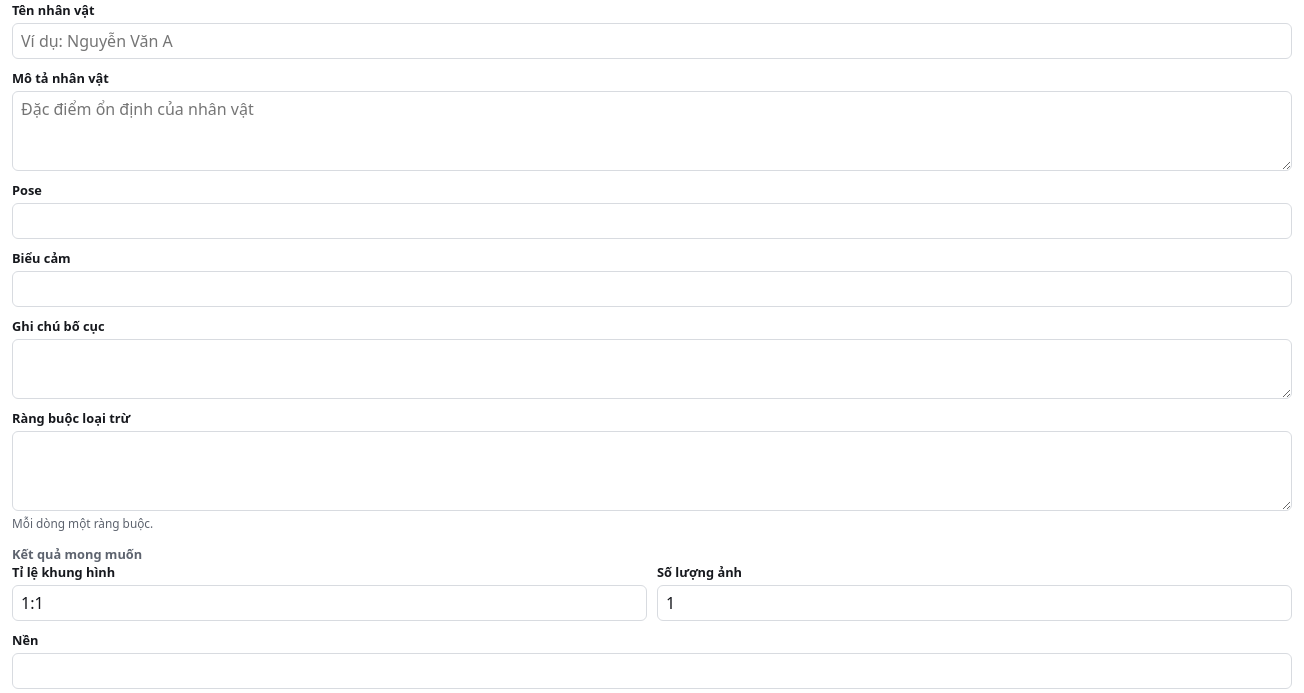
Test: the preview follows the form › carries the name, the description and the composition note
The image size is (1304, 693).
Type "Trần Văn B" into the field labelled "Tên nhân vật". click: (652, 41)
box: [12,23,1292,59]
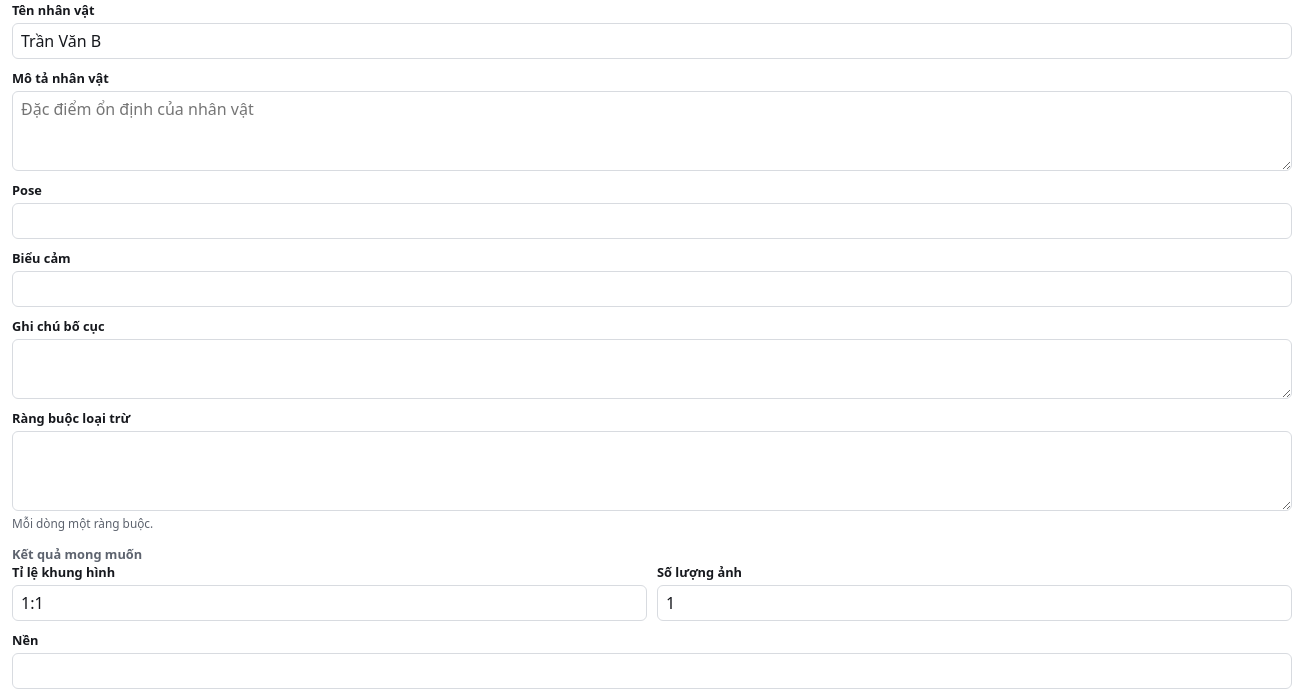
Type "Nam, tóc ngắn" into the text box labelled "Mô tả nhân vật". click: (652, 131)
box: [12,91,1292,171]
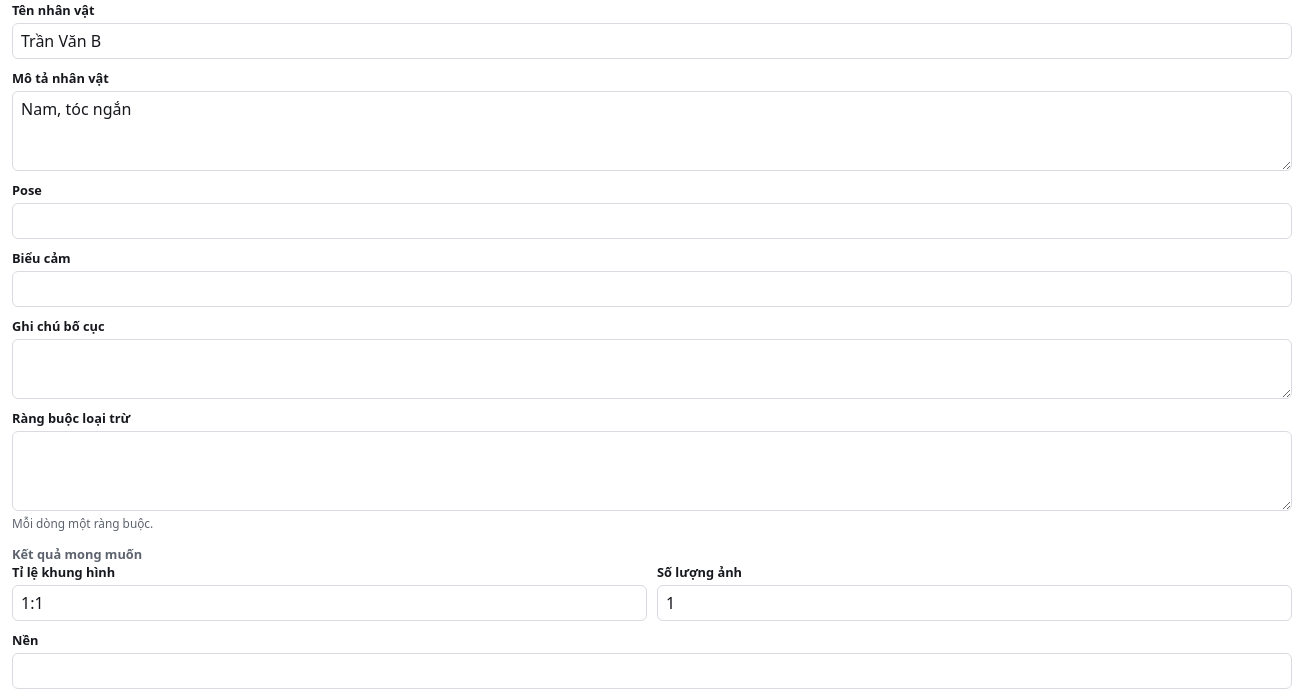
Type "khung ngang, chủ thể lệch trái" into the text box labelled "Ghi chú bố cục". click: (652, 369)
box: [12,339,1292,399]
(page scrolled)
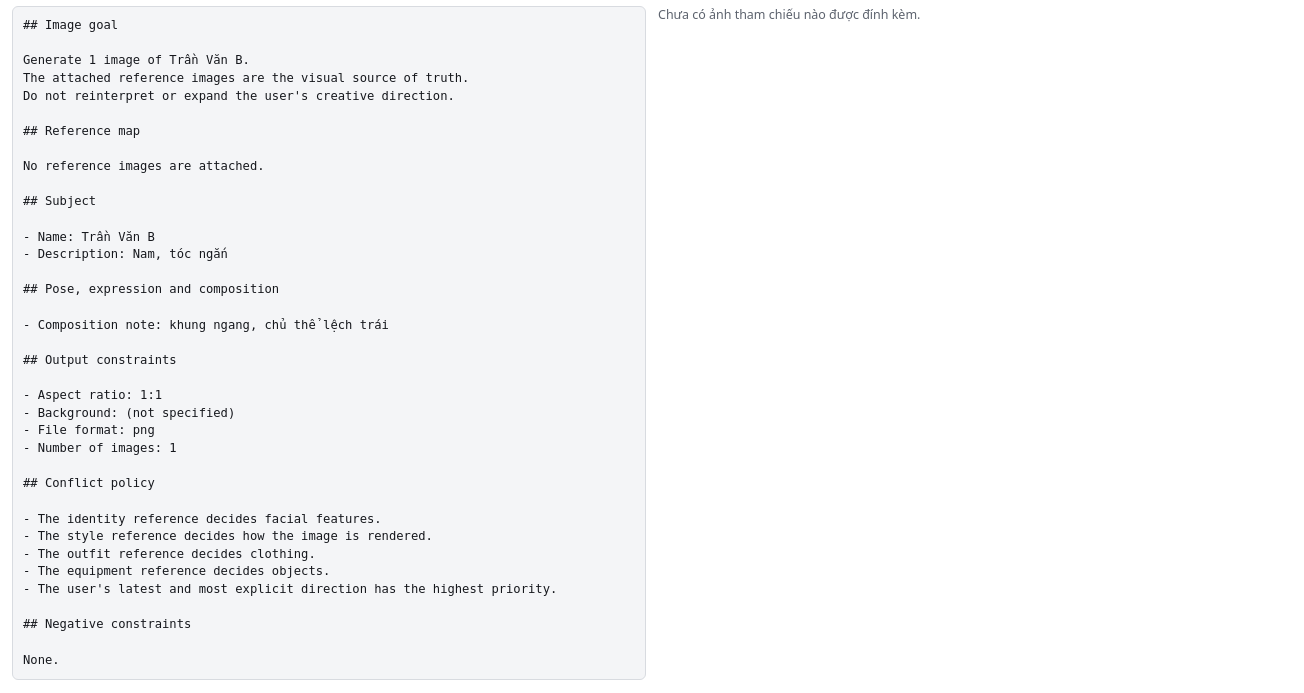
Now the text named "Prompt" shows "- Name: Trần Văn B", box [23,18,557,666]
Now the text named "Prompt" shows "- Description: Nam, tóc ngắn", box [23,18,557,666]
Now the text named "Prompt" shows "- Composition note: khung ngang, chủ thể lệch trái", box [23,18,557,666]
